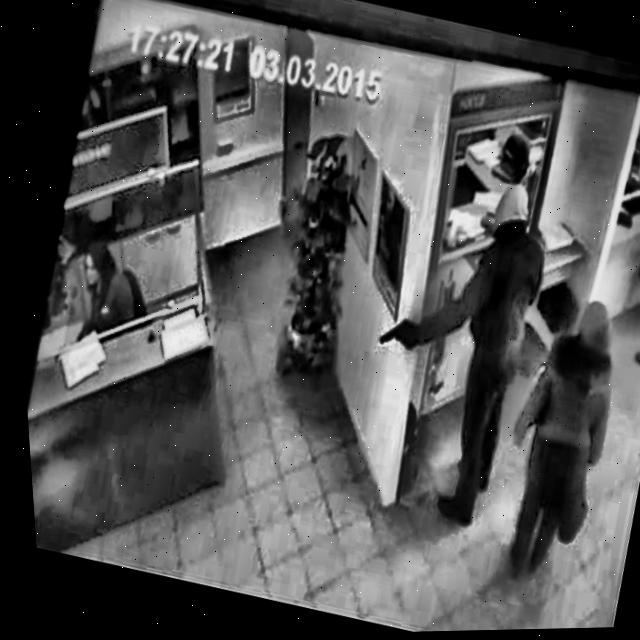pistol: (363, 292, 433, 371)
